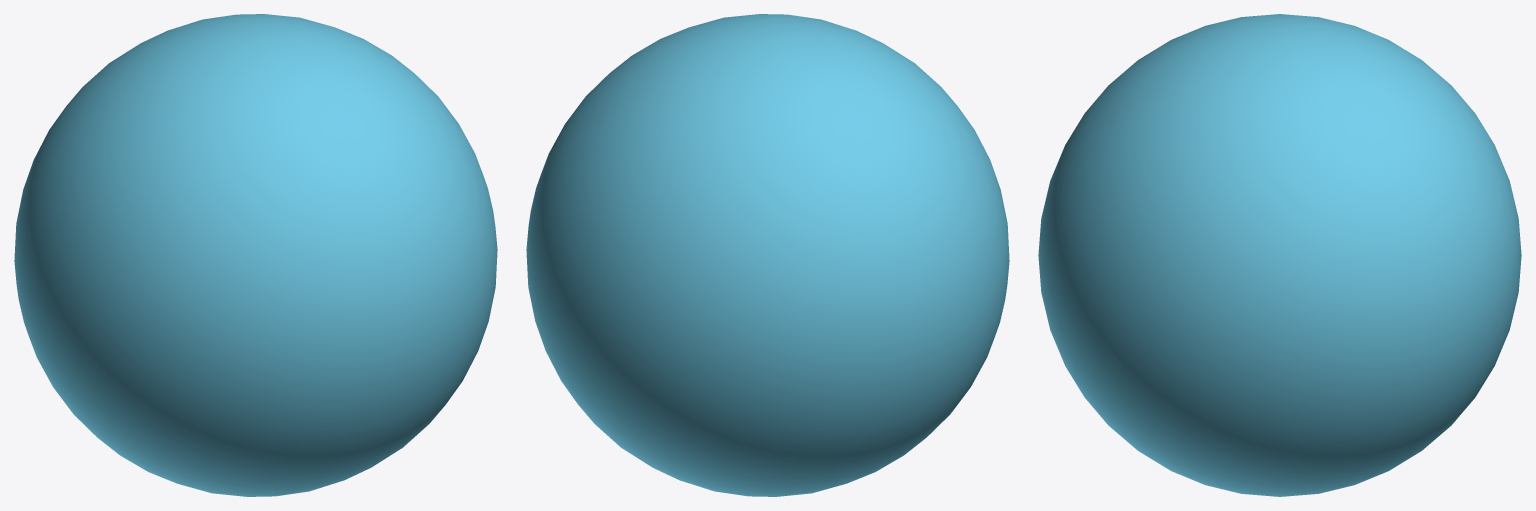
Rendered from Player_Curl.fbx.
3 views of the same model, side by side, from view 1: azimuth 30°, elevation 25°; view 2: azimuth 150°, elevation 25°; view 3: azimuth 270°, elevation 25° (orthographic).
Parts seen in each view (by area): view 1: Player Roll; view 2: Player Roll; view 3: Player Roll.
Part boxes in pixels (x1=…): Player Roll: x1=14, y1=14, x2=497, y2=496; Player Roll: x1=526, y1=14, x2=1009, y2=496; Player Roll: x1=1038, y1=14, x2=1521, y2=496.
Size of the model in its own units: 130 by 130 by 130.
